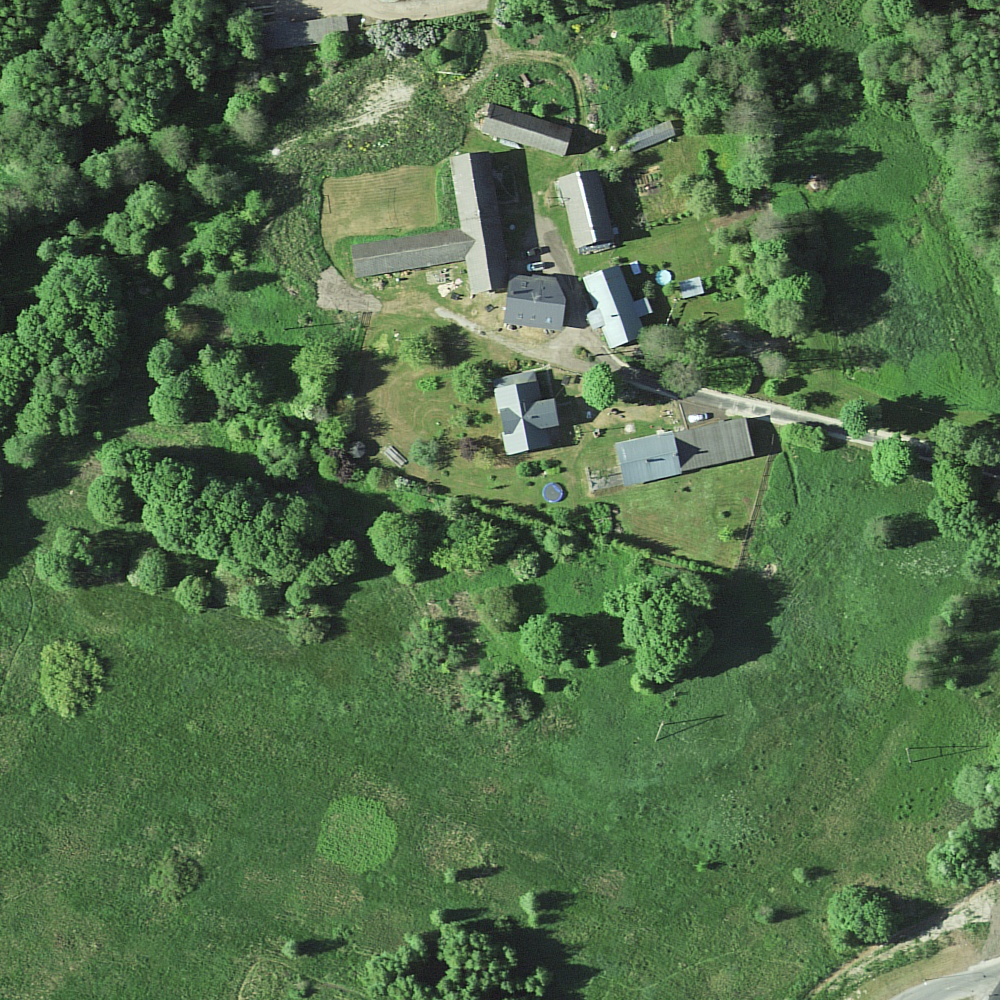building: (352, 152, 510, 294), (583, 266, 654, 349), (492, 371, 560, 456), (482, 104, 573, 156), (558, 170, 615, 249), (673, 419, 754, 471), (616, 431, 683, 486), (505, 273, 567, 331), (261, 16, 351, 50), (622, 120, 676, 154)
